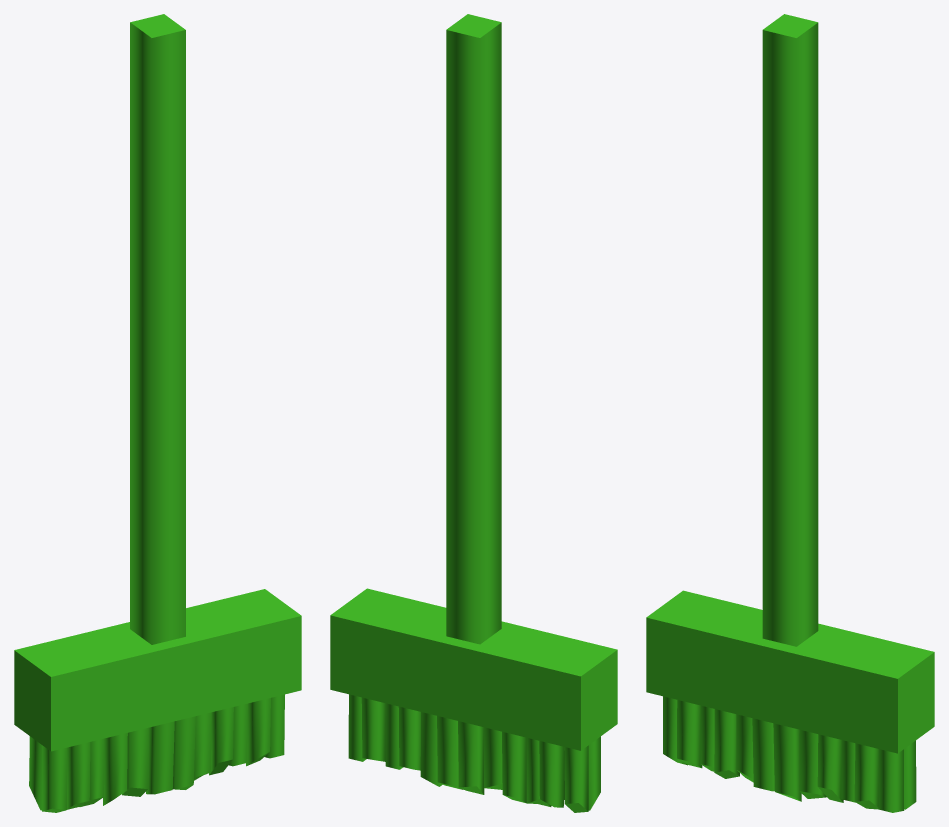
File: sepru_v02.FBX
3 renders of one model, left to right at view 1: azimuth 30°, elevation 25°; view 2: azimuth 150°, elevation 25°; view 3: azimuth 330°, elevation 25°, orthographic.
Parts seen in each view (by area): view 1: sepru; view 2: sepru; view 3: sepru.
Part boxes in pixels (x1,y1,x2,y2): sepru: (14,14,301,812); sepru: (330,14,617,812); sepru: (646,14,934,812).
Size of the model in its own units: 108 by 315 by 27.54.
